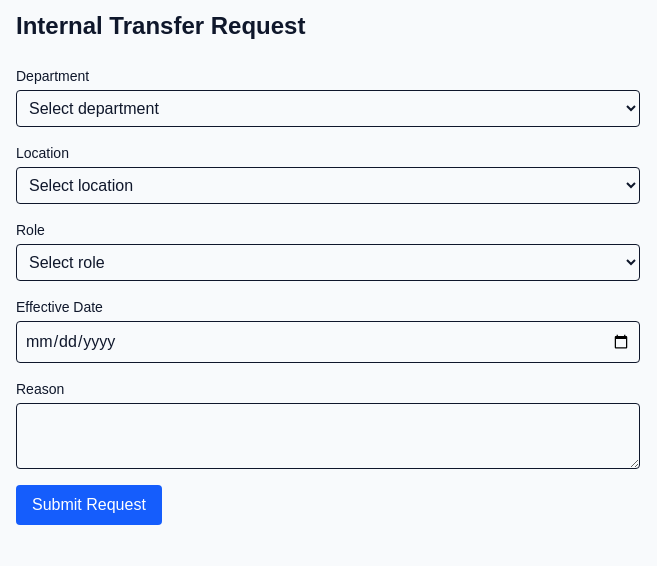
employee-internal-transfer — T04: Approved Form Validation (UT05 / AC05 / AC03) › displays validation error when locationId is missing
Step 1. Select "Engineering" in the dropdown labelled "Department" → (328, 108), box [16,90,640,127]
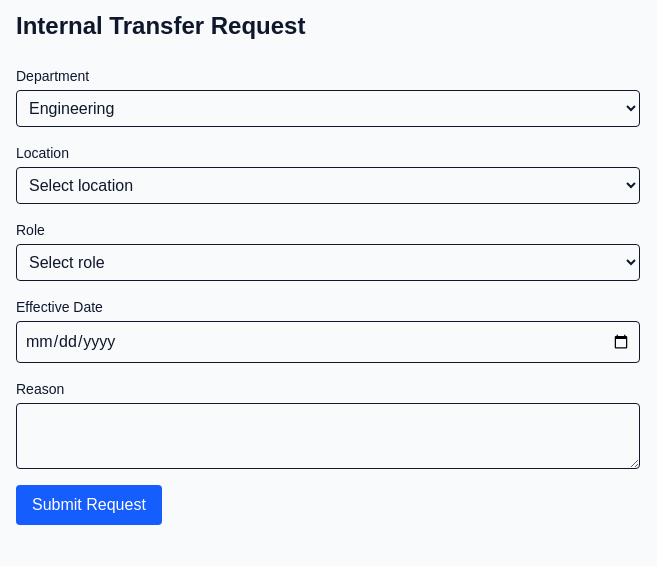
Step 2. Select "Software Engineer" in the dropdown labelled "Role" → (328, 262), box [16,244,640,281]
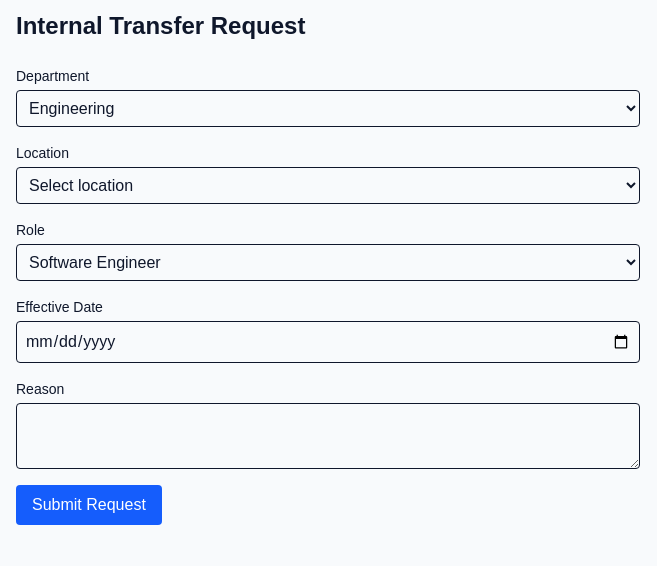
Step 3. Type "2026-10-01" into the date field labelled "Effective Date" → (328, 342), box [16,321,640,363]
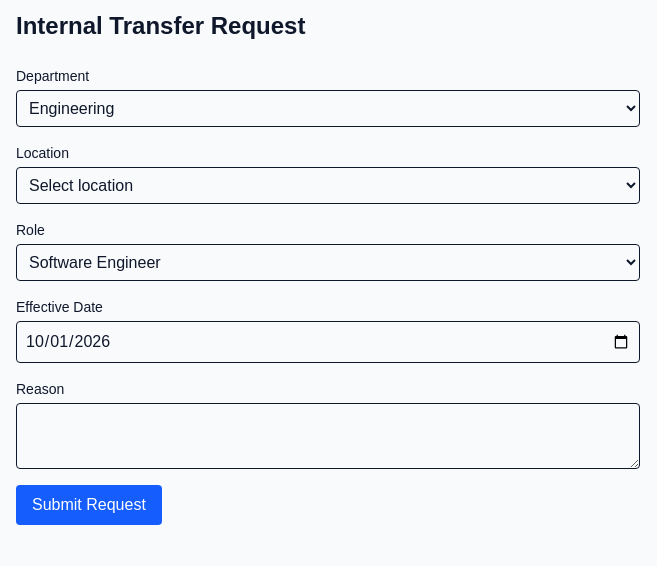
Step 4. Click the button "Submit Request" → (89, 505), box [16,485,162,525]
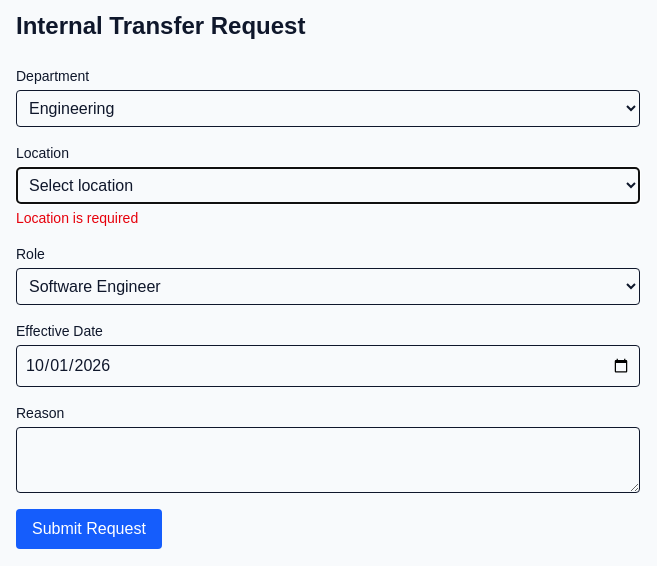
expect the text "Location is required" is shown: met, box [16,210,138,226]
